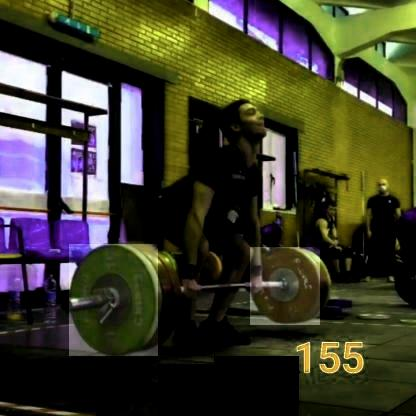barbell: (70, 244, 158, 356), (250, 248, 321, 326)
